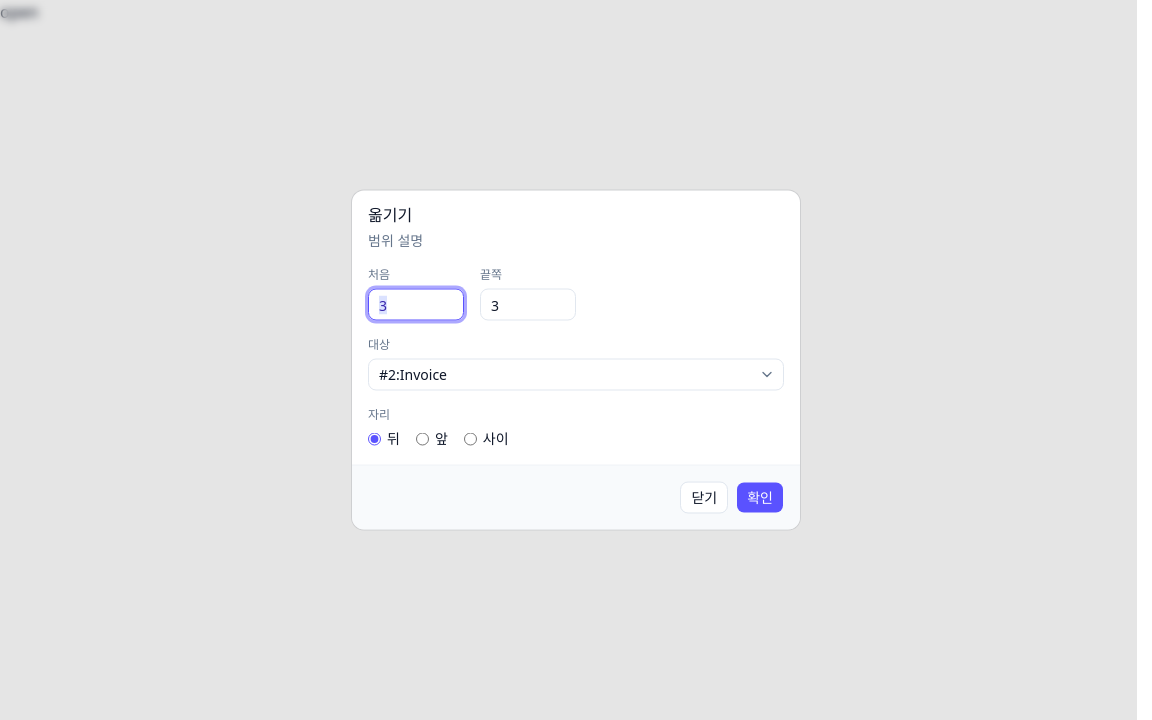
MovePagesDialog(Core) 검사와 onMove › 순번 오류는 invalidBefore(장수 + 1) 문구
Click the radio button labelled "사이": (470, 438) x1=464 y1=432 x2=477 y2=445
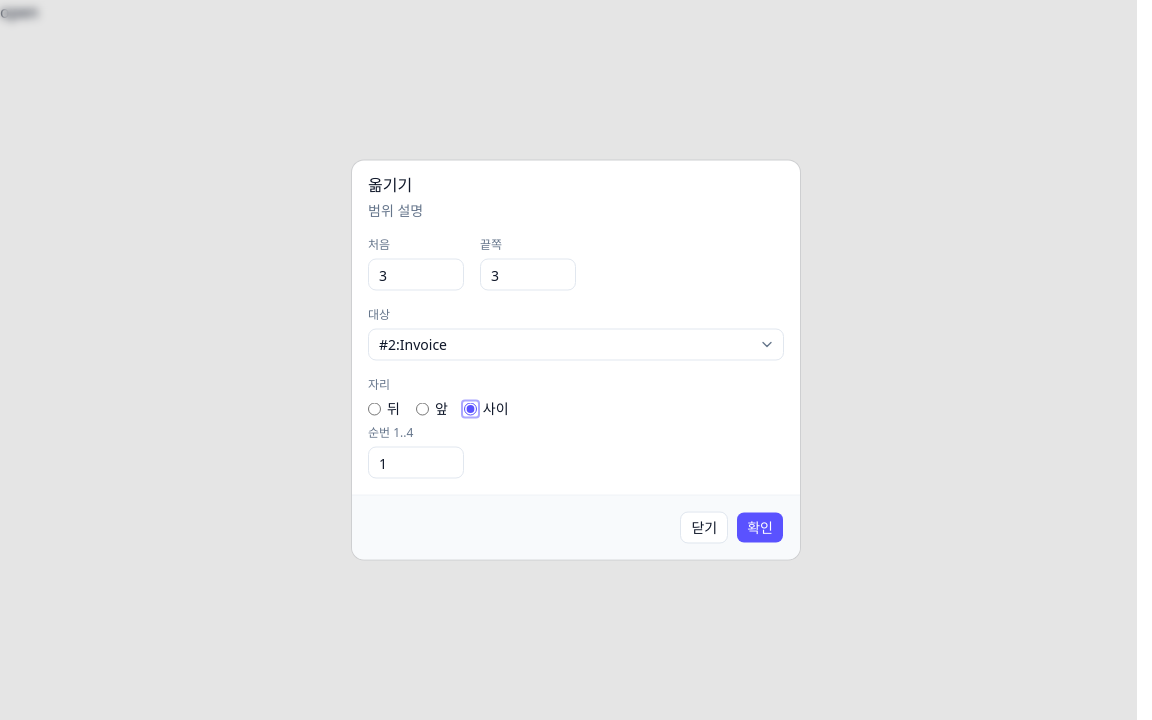
Replace the text in the field labelled "순번 1..4" with "5": (416, 462) x1=368 y1=446 x2=464 y2=478
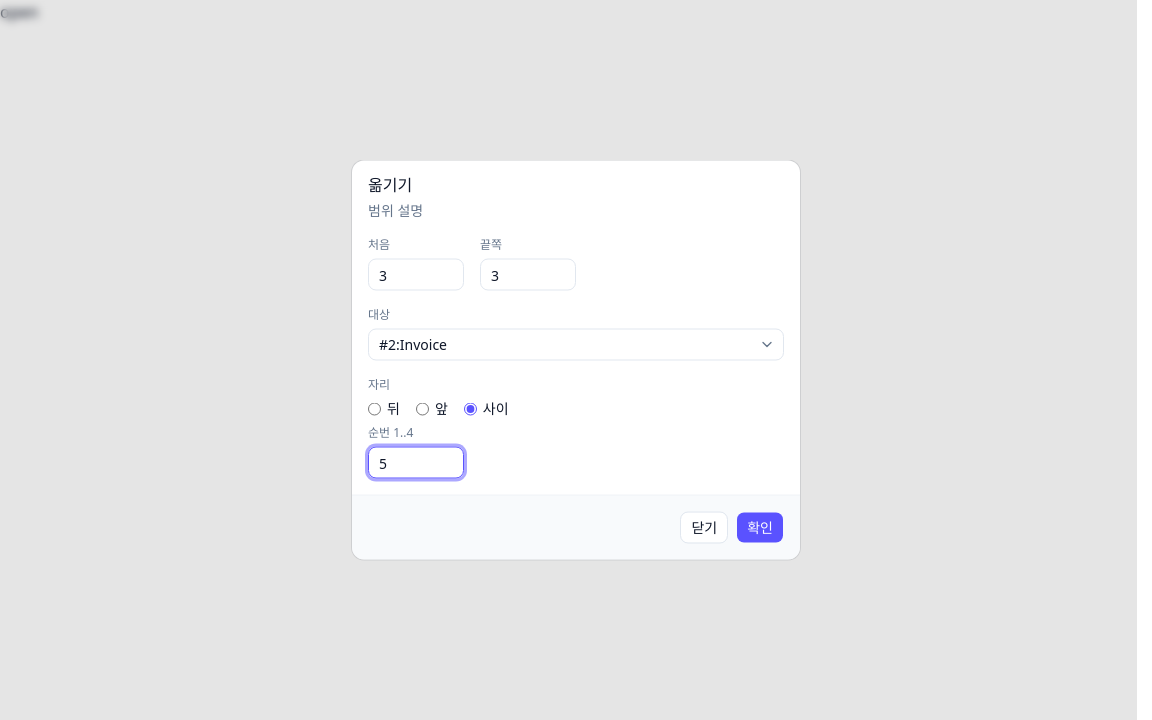
Click the button "확인": (760, 528) x1=736 y1=512 x2=784 y2=544
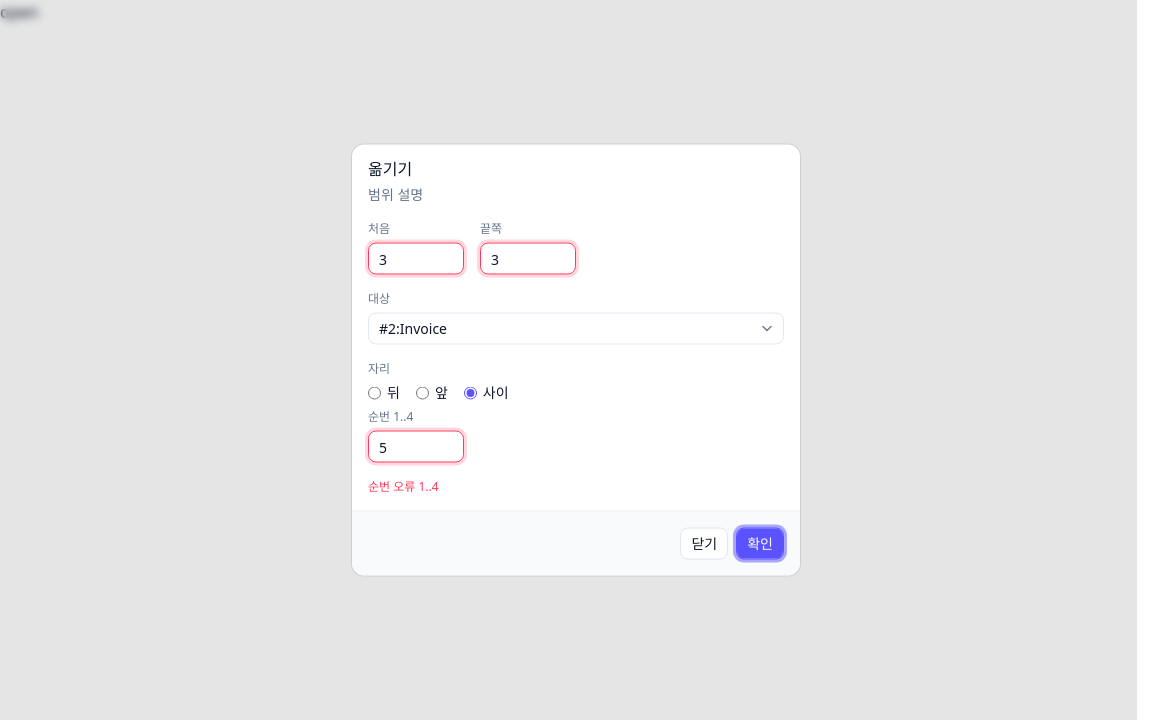
Expected: the message reads "순번 오류 1..4", x1=368 y1=478 x2=439 y2=494
